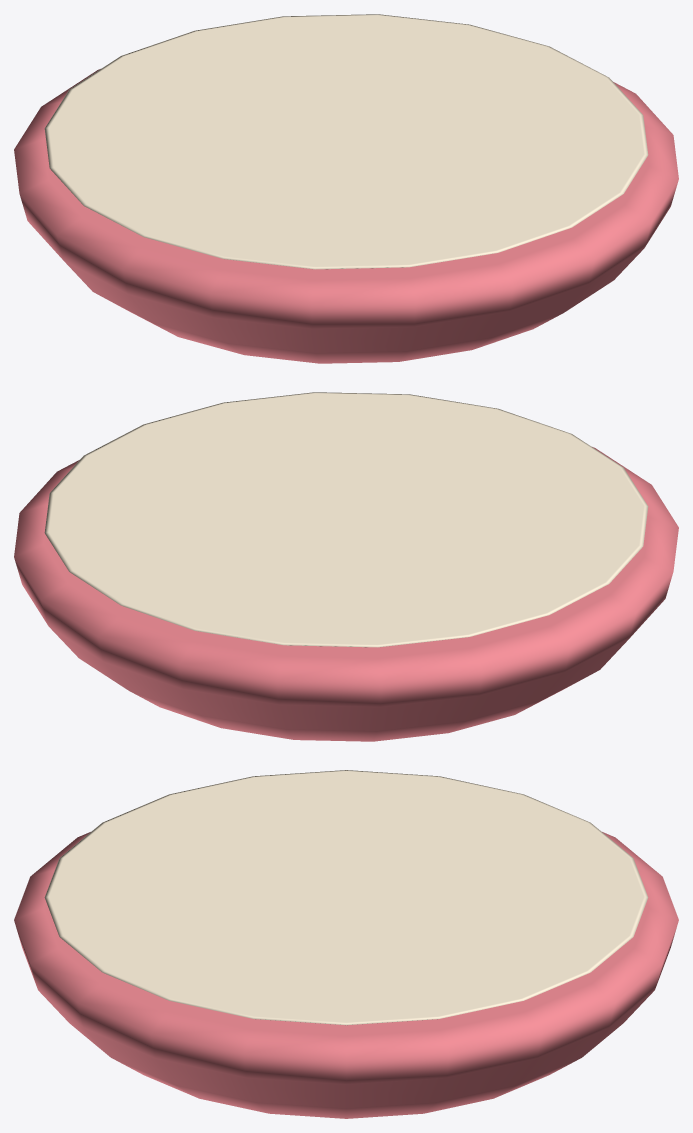
The model's file is plastic_dish.glb.
The picture shows the model from 3 angles, top to bottom: view 1: azimuth 30°, elevation 25°; view 2: azimuth 150°, elevation 25°; view 3: azimuth 270°, elevation 25°; orthographic projection.
Parts seen in each view (by area): view 1: Well, Dish; view 2: Well, Dish; view 3: Well, Dish.
Part boxes in pixels (<box>): Well: <box>44,14,648,269</box>; Dish: <box>14,69,678,363</box>; Well: <box>44,392,648,647</box>; Dish: <box>14,447,678,741</box>; Well: <box>44,770,648,1025</box>; Dish: <box>14,832,678,1118</box>.
Bounding box in the file's own units: 0.2592 × 0.055 × 0.2592.
